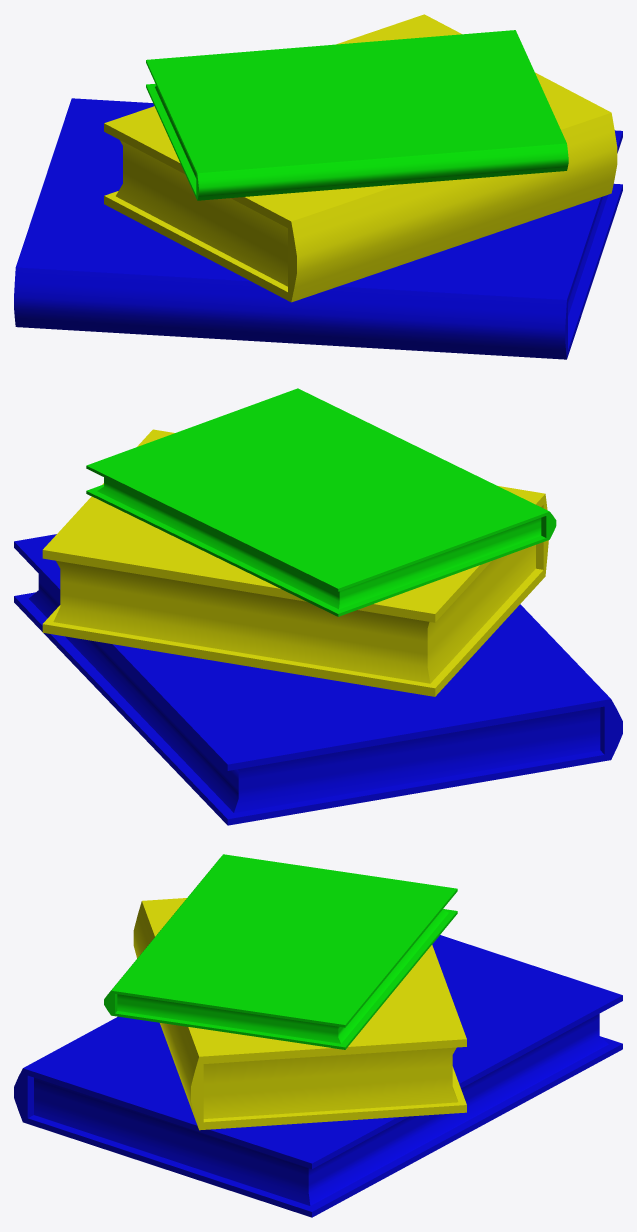
File: Livres_groupe_02.fbx
3 renders of one model, top to bottom at view 1: azimuth 30°, elevation 25°; view 2: azimuth 150°, elevation 25°; view 3: azimuth 270°, elevation 25°, orthographic. The views are drawn at different scales.
Visible parts, largest first — view 1: Groupe_Livres_02; view 2: Groupe_Livres_02; view 3: Groupe_Livres_02.
Part boxes in pixels (x1,y1,x2,y2): Groupe_Livres_02: (14, 14, 622, 359); Groupe_Livres_02: (14, 388, 622, 825); Groupe_Livres_02: (14, 854, 622, 1217).
Size of the model in its own units: 0.431 by 0.1155 by 0.416.
